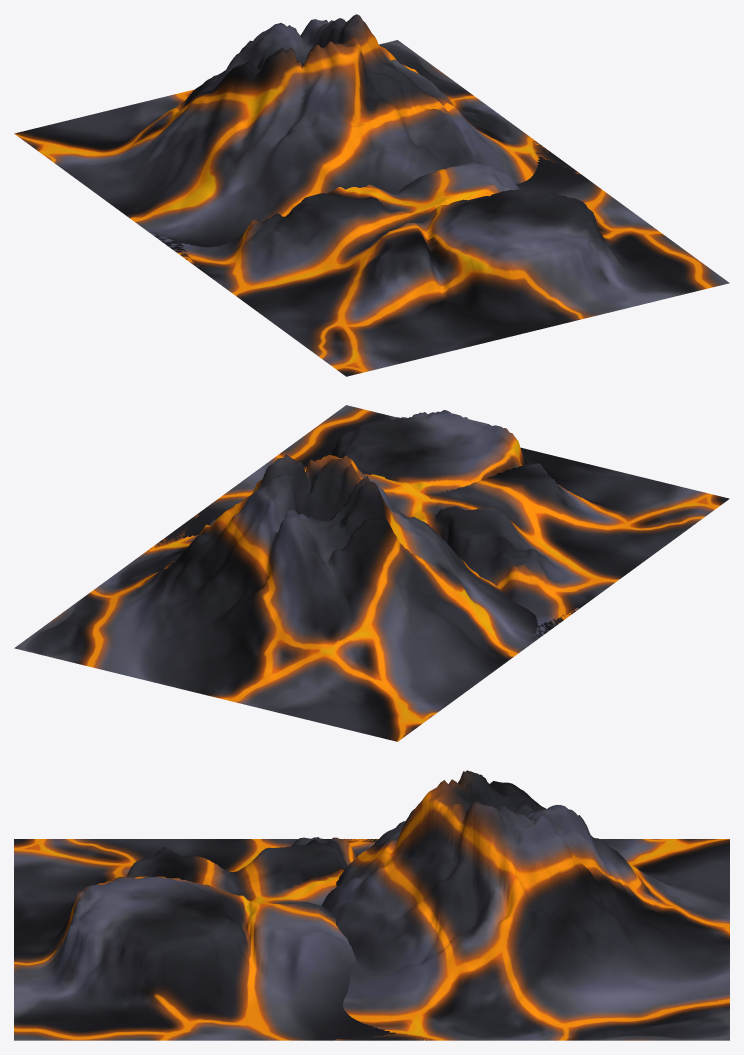
File: suelo.glb
3 views of the same model, one above another, from view 1: azimuth 30°, elevation 25°; view 2: azimuth 150°, elevation 25°; view 3: azimuth 270°, elevation 25° (orthographic). The views are drawn at different scales.
Parts seen in each view (by area): view 1: Landscape.001; view 2: Landscape.001; view 3: Landscape.001.
Boxes of the visible parts, box(x1,y1,x2,y2) form: Landscape.001: box(14, 14, 729, 376); Landscape.001: box(14, 405, 729, 741); Landscape.001: box(14, 770, 729, 1040).
Size of the model in its own units: 2 by 0.7229 by 3.
1 material, 1 textured.
